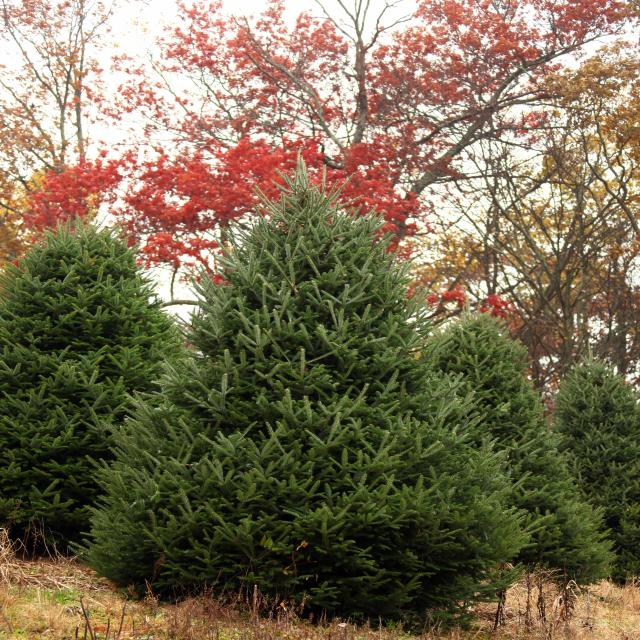Christmas-tree: (166, 157, 441, 603)
